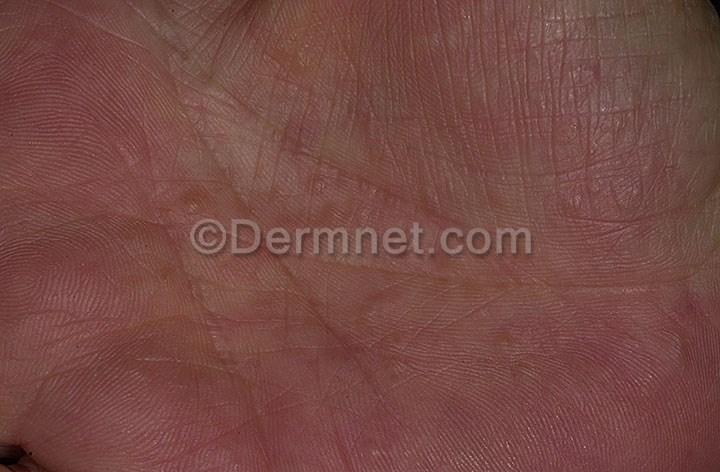Eczema: (101, 304, 229, 397), (404, 0, 495, 83), (602, 124, 675, 213), (275, 146, 366, 215), (254, 271, 329, 344), (367, 320, 439, 389), (489, 317, 552, 381), (644, 326, 711, 386), (149, 169, 219, 221), (568, 47, 624, 111), (539, 180, 595, 233), (348, 433, 403, 472)
